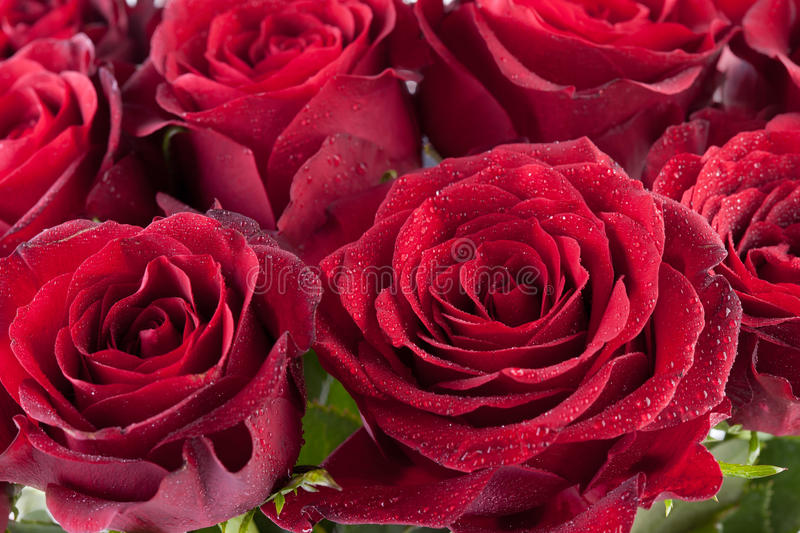RedRose: (313, 156, 747, 533), (0, 217, 305, 522), (139, 1, 440, 232)
